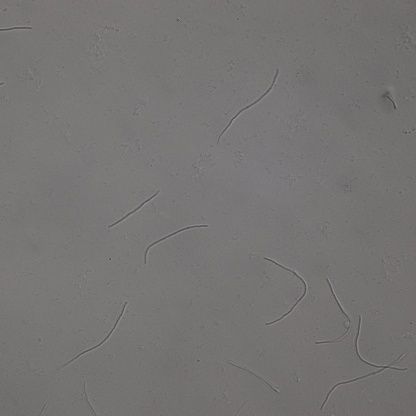Sensitive: (321, 315, 407, 409), (216, 69, 279, 145), (58, 302, 128, 369), (264, 256, 307, 327), (143, 224, 207, 265), (314, 278, 352, 346), (107, 188, 158, 227), (230, 362, 278, 392)
